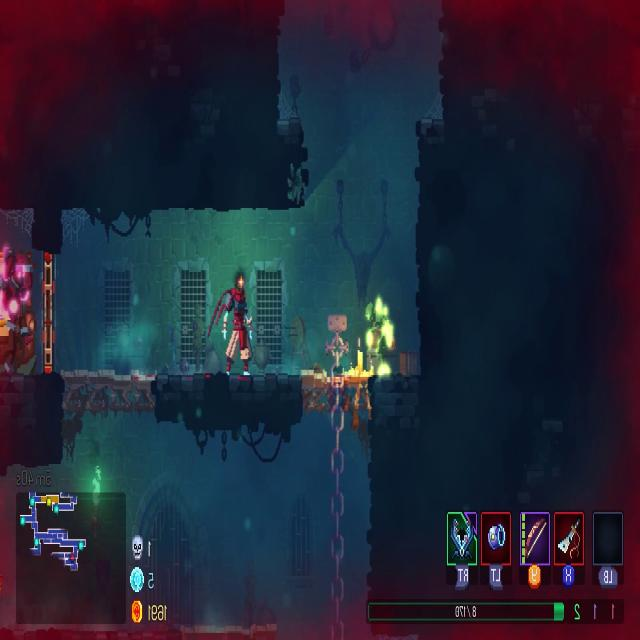agents: (220, 272, 252, 378)
enemy_green_puncher: (361, 298, 393, 379)
